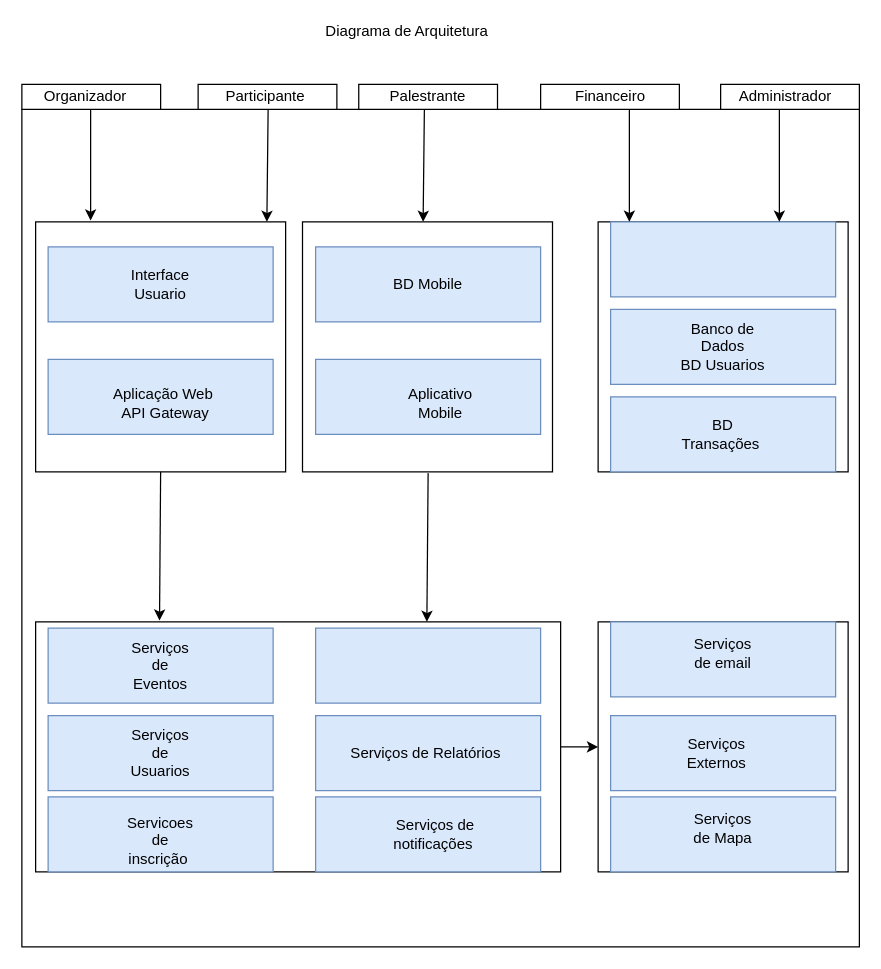
Some shapes in this 881 by 969 pixel diagram are drawn without their labels. Here are the shapes that lost their labels. From the top down, the box of each, then its label:
(609, 221, 836, 297): BD Eventos
(314, 627, 541, 703): Serviços de Certificados
